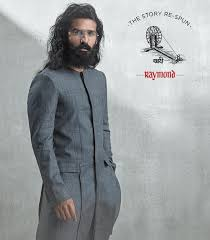Indian_Male: (69, 13, 99, 52)
